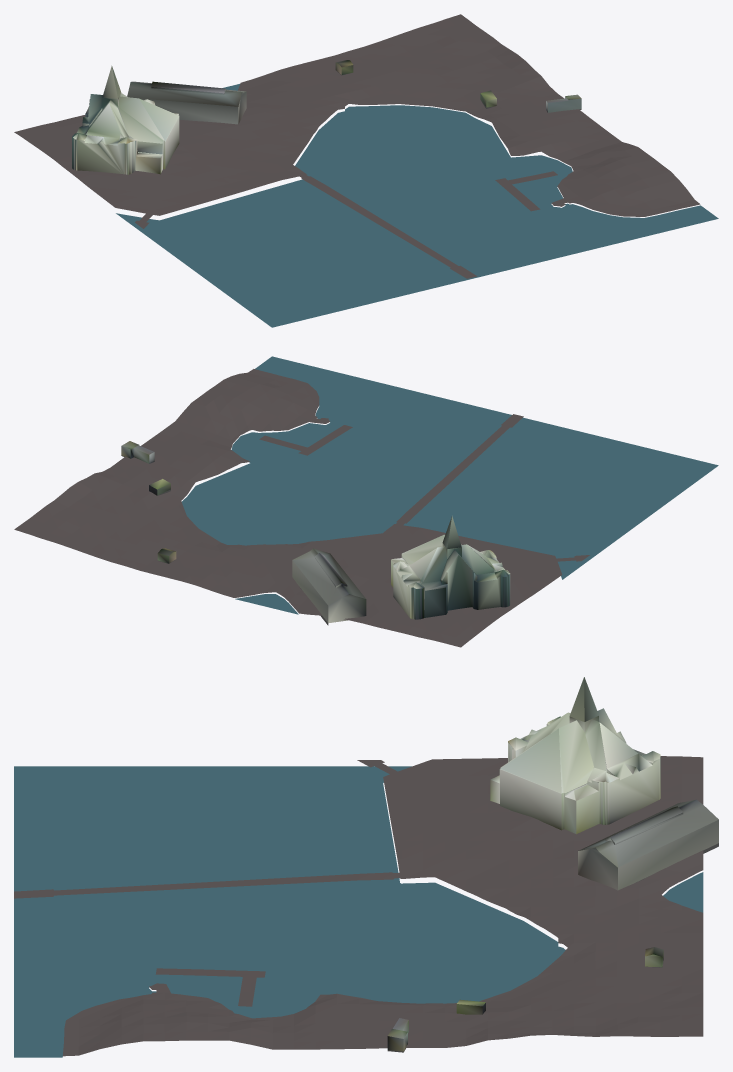
3 renders of one model, top to bottom at view 1: azimuth 30°, elevation 25°; view 2: azimuth 150°, elevation 25°; view 3: azimuth 270°, elevation 25°, orthographic. The views are drawn at different scales.
Visible parts, largest first — view 1: c_p05_p07; view 2: c_p05_p07; view 3: c_p05_p07.
Boxes of the visible parts, <box> form: c_p05_p07: <box>14,14,718,327</box>; c_p05_p07: <box>14,356,718,647</box>; c_p05_p07: <box>14,677,718,1057</box>.
Bounding box in the file's own units: 129 × 25.52 × 131.
